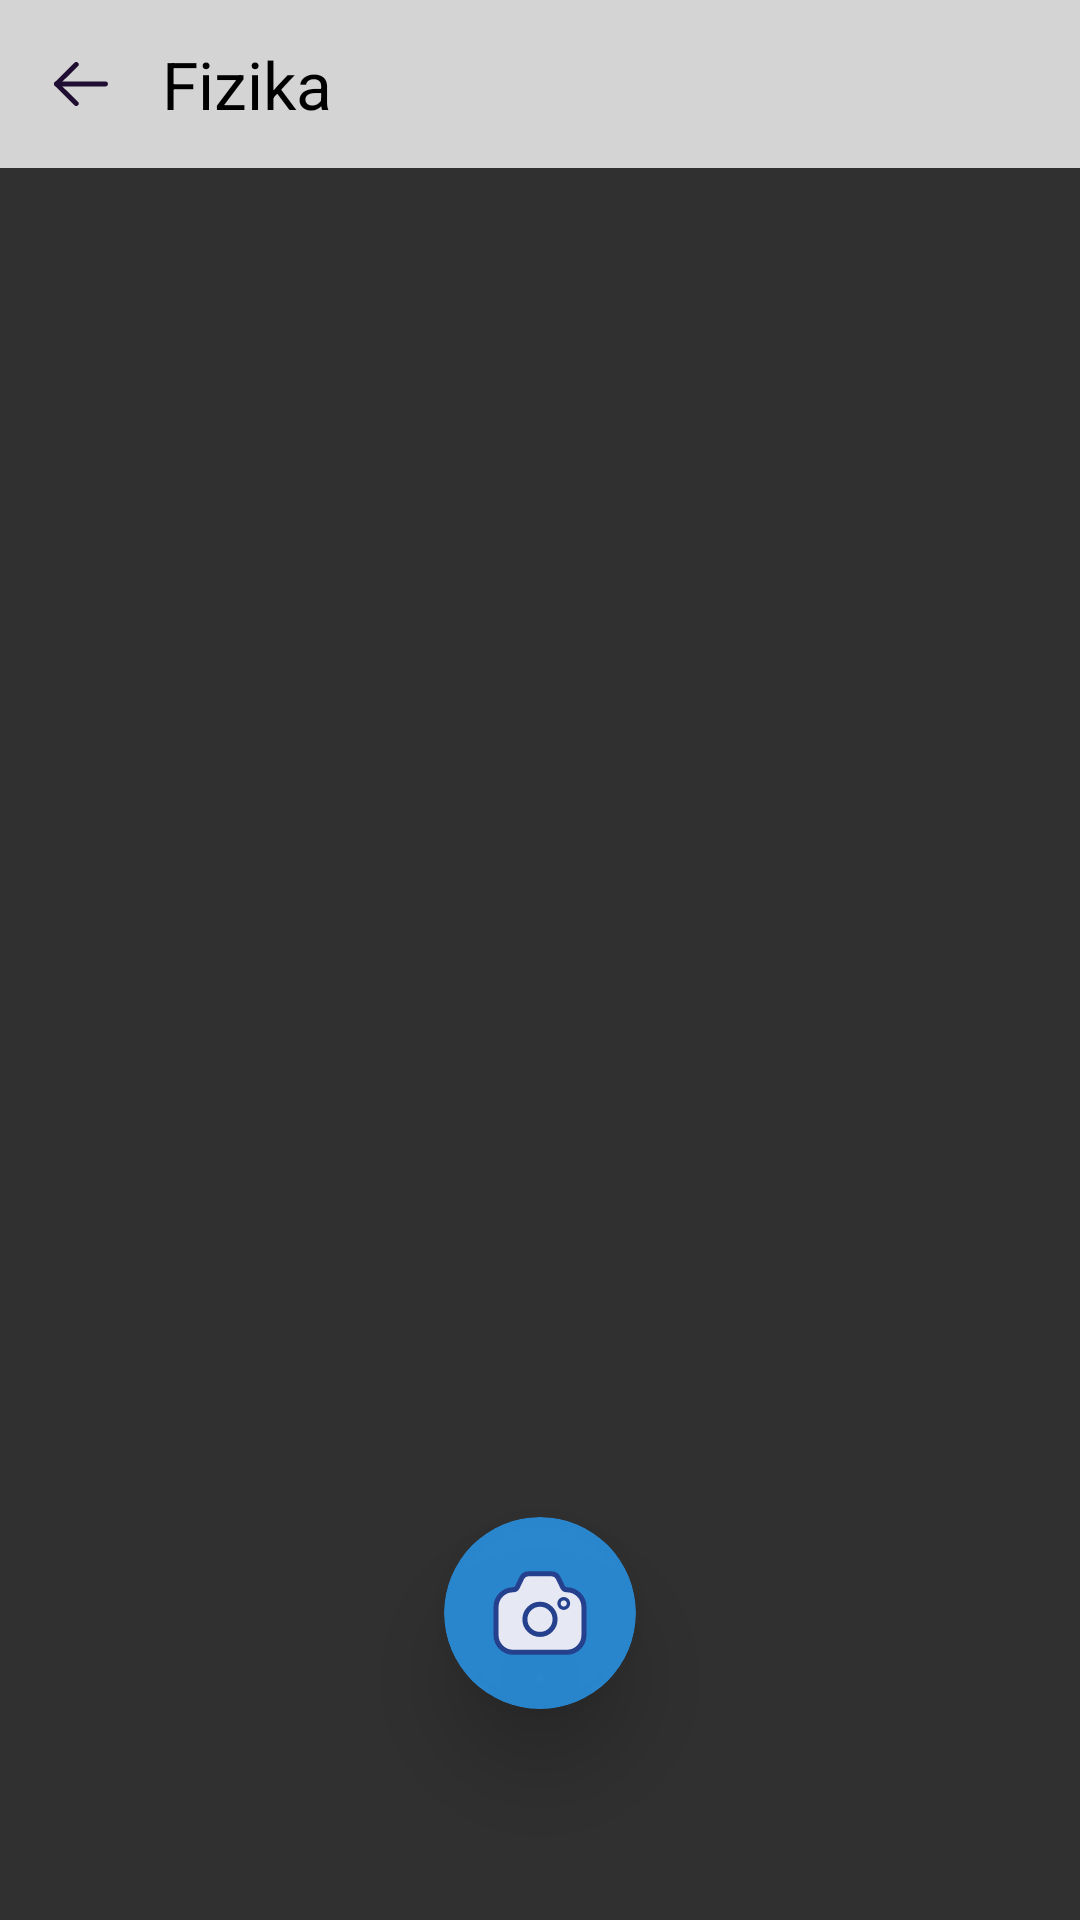

Locate icon controls on the screen. Image size 1080×1920, boxes as (x1, y1, x2, y2).
arrow left: (54, 62, 108, 106)
iconly camera: (493, 1571, 587, 1655)
